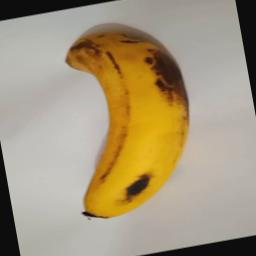Banana Unripe: (48, 12, 211, 226)
